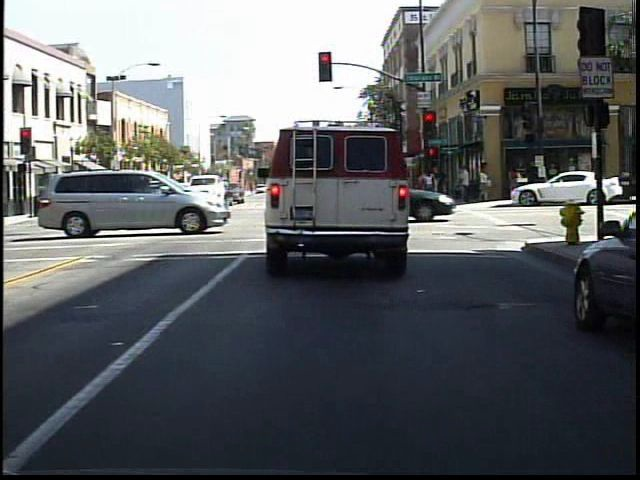person: (522, 156, 543, 207), (505, 160, 522, 194)
